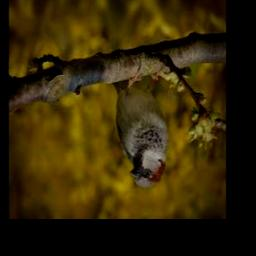Sparrow: (111, 73, 168, 189)
